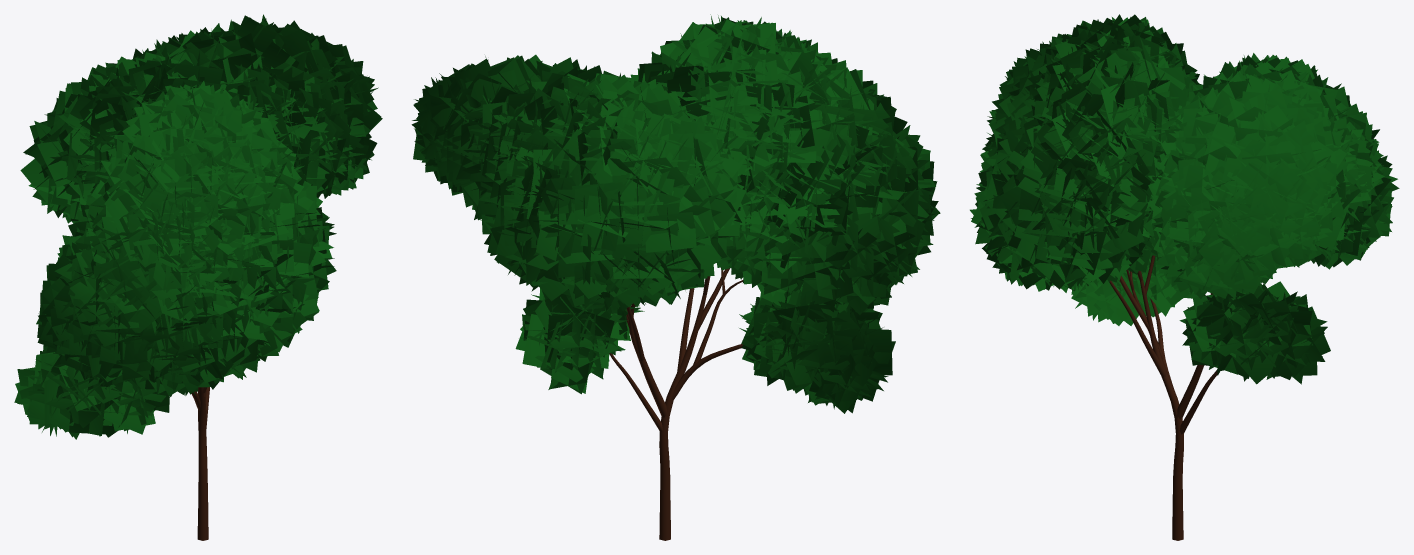
The model's file is tree.fbx.
The picture shows the model from 3 angles, left to right: view 1: azimuth 30°, elevation 25°; view 2: azimuth 150°, elevation 25°; view 3: azimuth 270°, elevation 25°; orthographic projection. The views are drawn at different scales.
Parts seen in each view (by area): view 1: Leaves, tree; view 2: Leaves, tree; view 3: Leaves, tree.
Boxes of the visible parts, box(x1,y1,x2,y2) form: Leaves: box(14, 14, 382, 439); tree: box(191, 387, 209, 540); Leaves: box(411, 14, 940, 413); tree: box(609, 267, 743, 540); Leaves: box(970, 14, 1399, 384); tree: box(1109, 255, 1217, 540).
Size of the model in its own units: 736 by 840 by 658.
